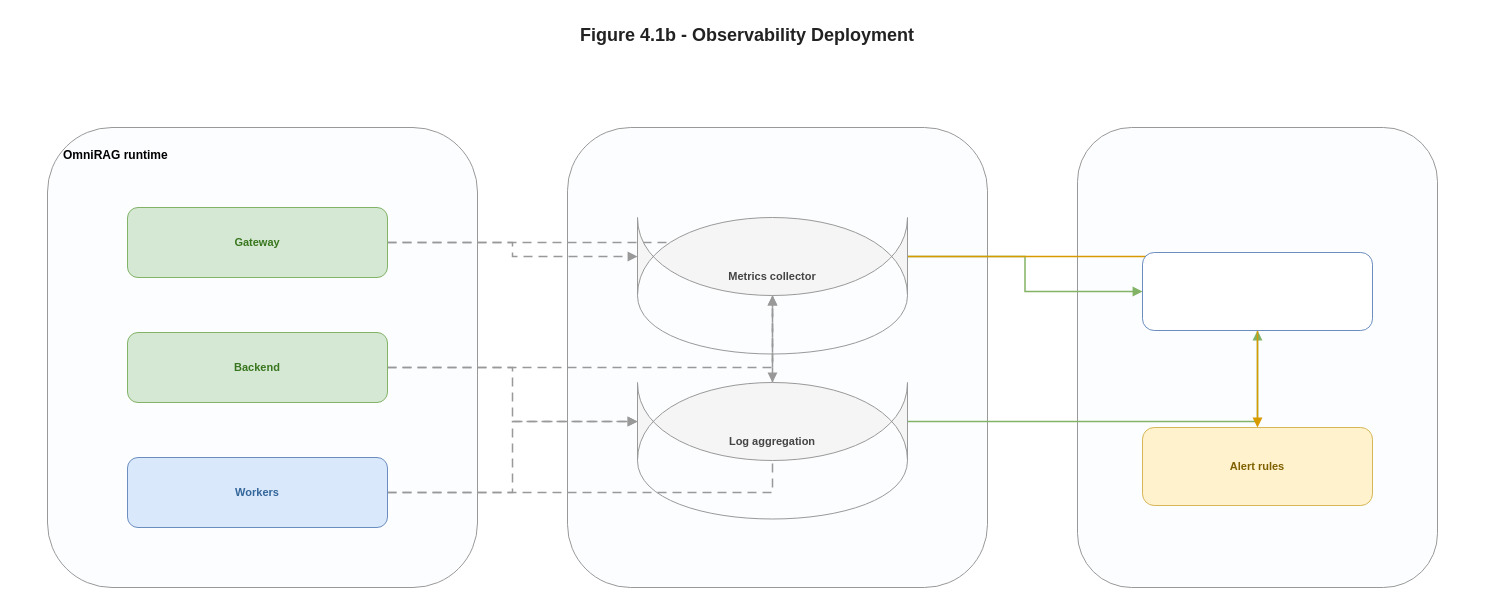
The diagram is 1494 pixels wide and 605 high, and some of its shapes have lost their labels. The box of each missing label's shape, as (x1, y1, x2, y2) in pixels:
Grafana / dashboard: (1142, 252, 1372, 330)
Review surface: (1076, 126, 1438, 588)
Telemetry stack: (566, 126, 988, 588)
